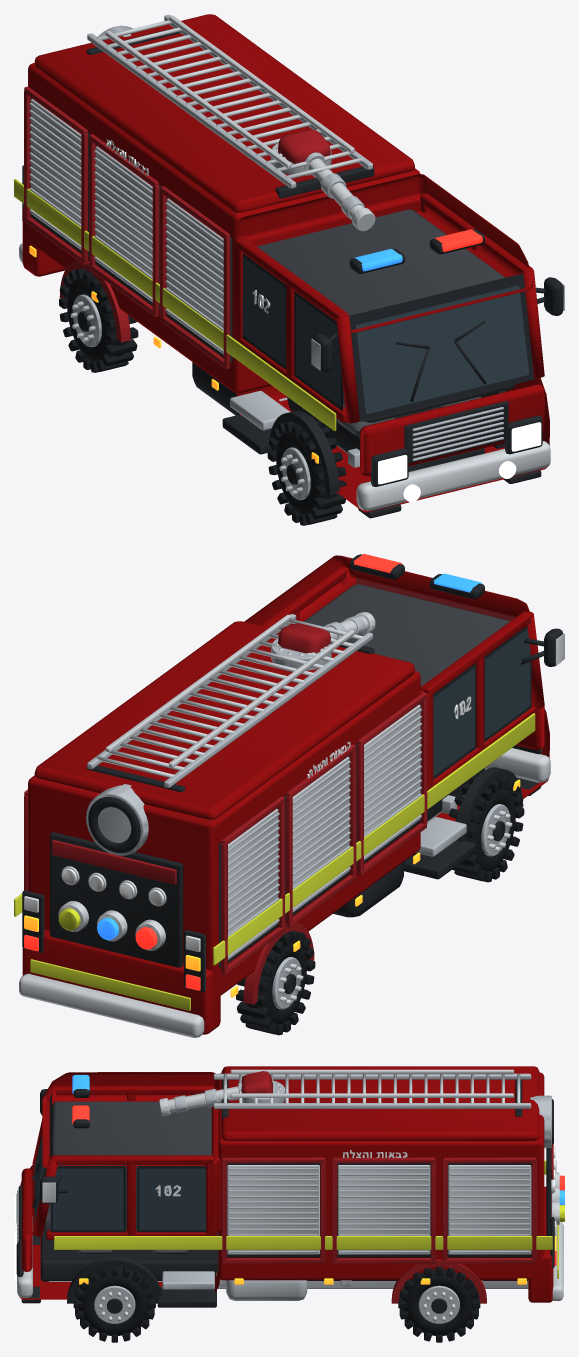
The model's file is fire_truck.glb.
The picture shows the model from 3 angles, top to bottom: view 1: azimuth 30°, elevation 25°; view 2: azimuth 150°, elevation 25°; view 3: azimuth 270°, elevation 25°; orthographic projection. The views are drawn at different scales.
Visible parts, largest first — view 1: FireEngineVisual_FireRed_PBR_Static, FireEngineVisual_Black_Polymer_PBR_Static, FireEngineVisual_Laminated_Glass_PBR_Static, FireEngineVisual_Brushed_Steel_PBR_Static, FireEngineVisual_Cab_Interior_PBR_Static, RoofLadder, FireEngineVisual_FireRed_Dark_PBR_Static, FireEngineVisual_Ribbed_Aluminium_PBR_Static, FireEngineVisual_HiVis_Yellow_PBR_Static, FireEngineVisual_Chrome_PBR_Static, WheelFL_Rubber, WheelRL_Rubber (+7 smaller); view 2: FireEngineVisual_FireRed_PBR_Static, FireEngineVisual_Black_Polymer_PBR_Static, FireEngineVisual_Brushed_Steel_PBR_Static, RoofLadder, FireEngineVisual_FireRed_Dark_PBR_Static, FireEngineVisual_Ribbed_Aluminium_PBR_Static, PumpPanel_Backplate, FireEngineVisual_Cab_Interior_PBR_Static, FireEngineVisual_HiVis_Yellow_PBR_Static, FireEngineVisual_Laminated_Glass_PBR_Static, FireEngineVisual_Chrome_PBR_Static, WheelRL_Rubber (+11 smaller); view 3: FireEngineVisual_FireRed_PBR_Static, FireEngineVisual_Black_Polymer_PBR_Static, FireEngineVisual_Ribbed_Aluminium_PBR_Static, FireEngineVisual_Brushed_Steel_PBR_Static, FireEngineVisual_Laminated_Glass_PBR_Static, FireEngineVisual_Cab_Interior_PBR_Static, FireEngineVisual_FireRed_Dark_PBR_Static, RoofLadder, FireEngineVisual_HiVis_Yellow_PBR_Static, WheelFR_Rubber, WheelRR_Rubber, FireEngineVisual_Chrome_PBR_Static (+9 smaller).
Part boxes in pixels (left/top/right/bottom): FireEngineVisual_FireRed_PBR_Static: left=22, top=14, right=549, bottom=512; FireEngineVisual_Black_Polymer_PBR_Static: left=22, top=28, right=563, bottom=518; FireEngineVisual_Laminated_Glass_PBR_Static: left=242, top=257, right=528, bottom=414; FireEngineVisual_Brushed_Steel_PBR_Static: left=29, top=103, right=503, bottom=467; FireEngineVisual_Cab_Interior_PBR_Static: left=257, top=209, right=515, bottom=422; RoofLadder: left=87, top=14, right=372, bottom=188; FireEngineVisual_FireRed_Dark_PBR_Static: left=24, top=86, right=230, bottom=369; FireEngineVisual_Ribbed_Aluminium_PBR_Static: left=31, top=99, right=223, bottom=354; FireEngineVisual_HiVis_Yellow_PBR_Static: left=14, top=179, right=336, bottom=430; FireEngineVisual_Chrome_PBR_Static: left=19, top=243, right=564, bottom=510; WheelFL_Rubber: left=267, top=416, right=346, bottom=525; WheelRL_Rubber: left=59, top=268, right=138, bottom=372; FireEngineVisual_FireRed_PBR_Static: left=22, top=555, right=549, bottom=1034; FireEngineVisual_Black_Polymer_PBR_Static: left=22, top=626, right=563, bottom=991; FireEngineVisual_Brushed_Steel_PBR_Static: left=228, top=708, right=466, bottom=958; RoofLadder: left=87, top=614, right=372, bottom=787; FireEngineVisual_FireRed_Dark_PBR_Static: left=24, top=692, right=427, bottom=1004; FireEngineVisual_Ribbed_Aluminium_PBR_Static: left=228, top=704, right=420, bottom=959; PumpPanel_Backplate: left=50, top=832, right=183, bottom=967; FireEngineVisual_Cab_Interior_PBR_Static: left=303, top=584, right=510, bottom=686; FireEngineVisual_HiVis_Yellow_PBR_Static: left=14, top=713, right=535, bottom=1010; FireEngineVisual_Laminated_Glass_PBR_Static: left=355, top=578, right=530, bottom=776; FireEngineVisual_Chrome_PBR_Static: left=19, top=633, right=564, bottom=1037; WheelRL_Rubber: left=236, top=930, right=315, bottom=1035; FireEngineVisual_FireRed_PBR_Static: left=17, top=1066, right=553, bottom=1302; FireEngineVisual_Black_Polymer_PBR_Static: left=16, top=1079, right=554, bottom=1307; FireEngineVisual_Ribbed_Aluminium_PBR_Static: left=227, top=1165, right=531, bottom=1254; FireEngineVisual_Brushed_Steel_PBR_Static: left=17, top=1168, right=529, bottom=1300; FireEngineVisual_Laminated_Glass_PBR_Static: left=34, top=1101, right=205, bottom=1229; FireEngineVisual_Cab_Interior_PBR_Static: left=43, top=1101, right=211, bottom=1234; FireEngineVisual_FireRed_Dark_PBR_Static: left=221, top=1157, right=536, bottom=1303; RoofLadder: left=213, top=1069, right=531, bottom=1108; FireEngineVisual_HiVis_Yellow_PBR_Static: left=54, top=1160, right=558, bottom=1278; WheelFR_Rubber: left=73, top=1266, right=155, bottom=1342; WheelRR_Rubber: left=398, top=1266, right=480, bottom=1342; FireEngineVisual_Chrome_PBR_Static: left=17, top=1182, right=563, bottom=1300.
Bounding box in the file's own units: 3.18 × 3.65 × 7.98.
Materials: 16 (1 with a texture image).
